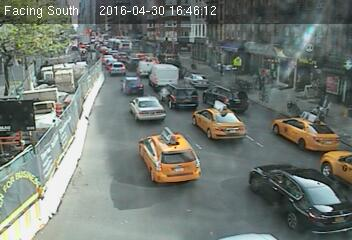neg: (280, 97, 301, 126), (182, 54, 201, 80), (42, 98, 57, 117), (4, 127, 18, 146), (68, 53, 81, 71), (252, 90, 265, 106), (99, 60, 110, 73)
pos: (312, 89, 337, 122)
